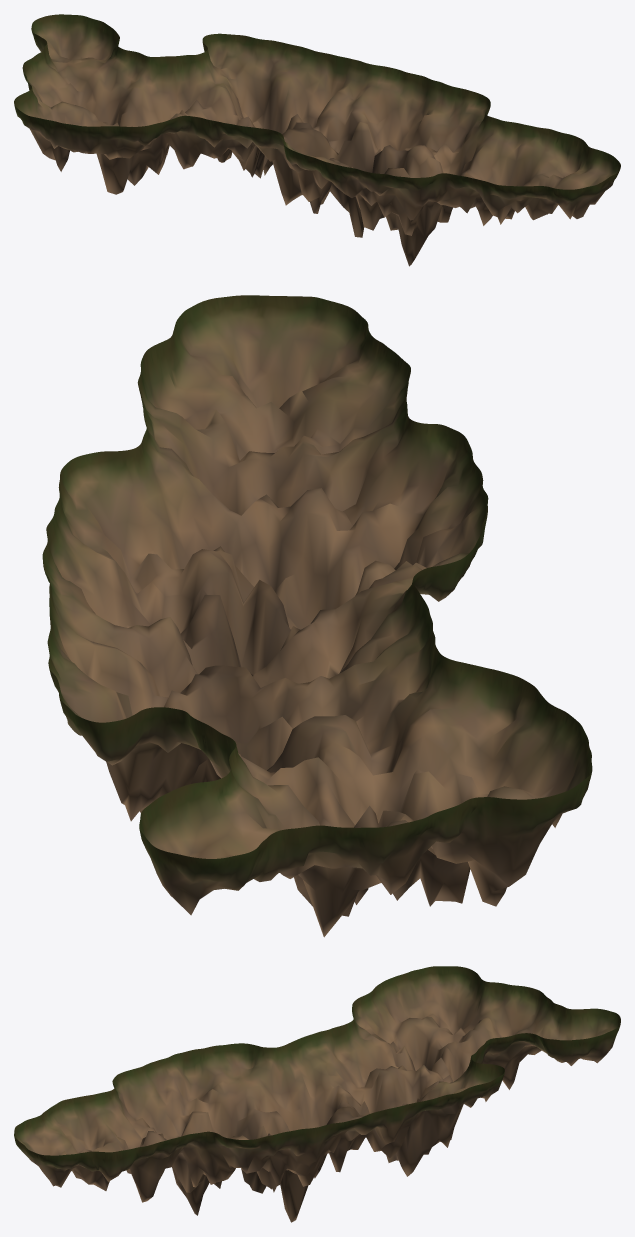
The model's file is SM_H07_IslandRock.fbx.
3 renders of one model, top to bottom at view 1: azimuth 30°, elevation 25°; view 2: azimuth 150°, elevation 25°; view 3: azimuth 270°, elevation 25°, orthographic. The views are drawn at different scales.
Visible parts, largest first — view 1: SM_H07_IslandRock; view 2: SM_H07_IslandRock; view 3: SM_H07_IslandRock.
Part boxes in pixels (x1=…): SM_H07_IslandRock: x1=14, y1=14, x2=620, y2=266; SM_H07_IslandRock: x1=42, y1=295, x2=592, y2=937; SM_H07_IslandRock: x1=14, y1=966, x2=620, y2=1222.
Bounding box in the file's own units: 269 × 87.31 × 364.
